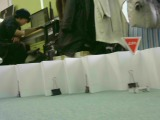stop: (120, 35, 143, 57)
